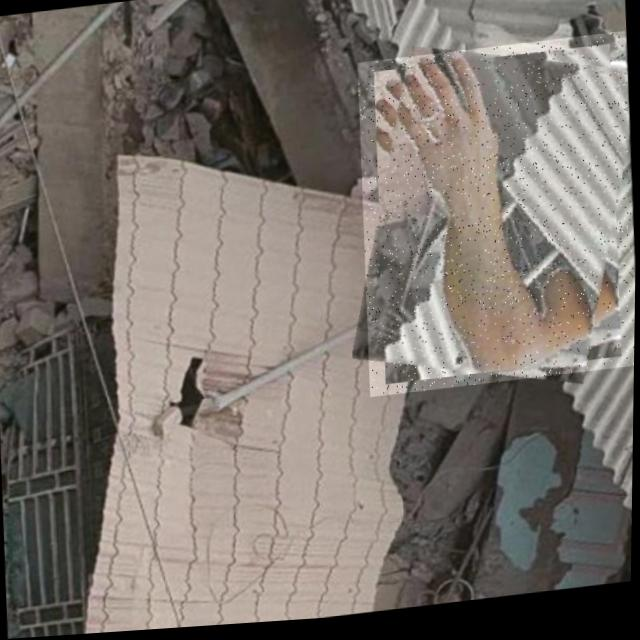Person in Rubble: (352, 38, 639, 403)
